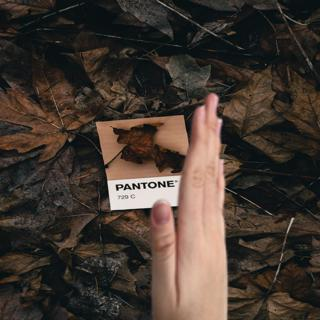Right: (141, 97, 242, 314)
